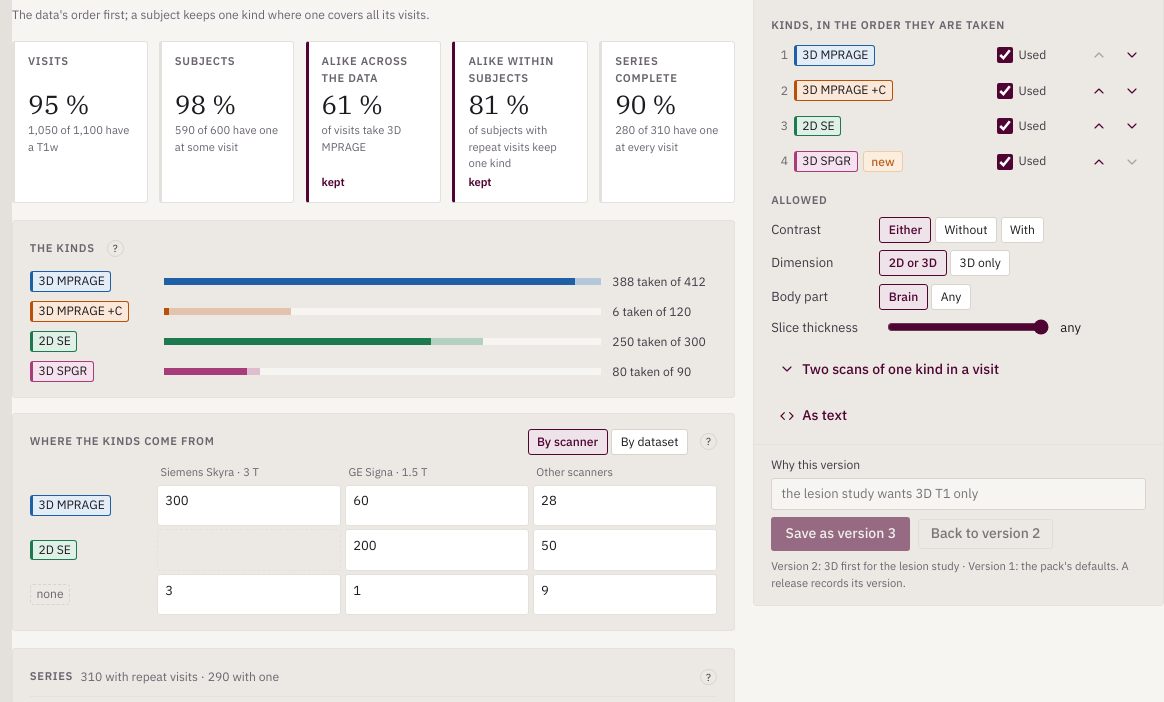
Test: the Rules panel › shows the saved version as text from the text door
The width and height of the screenshot is (1164, 702).
(page scrolled)
Click the button "As text": (813, 416) [771,401,855,431]
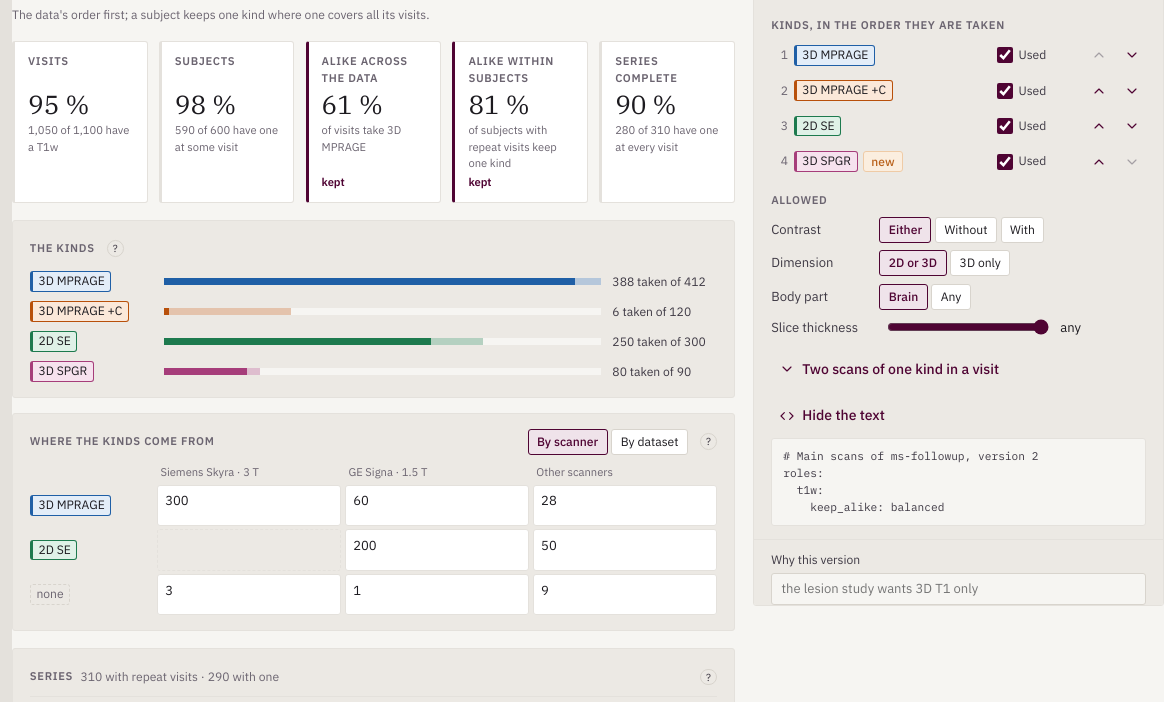
Check: the button "Hide the text" is expanded
Check: the text with class "ms-yaml" shows "# Main scans of ms-followup, version 2", box [783,450,1038,514]
Click the button "Hide the text": (832, 416) [771,401,893,431]
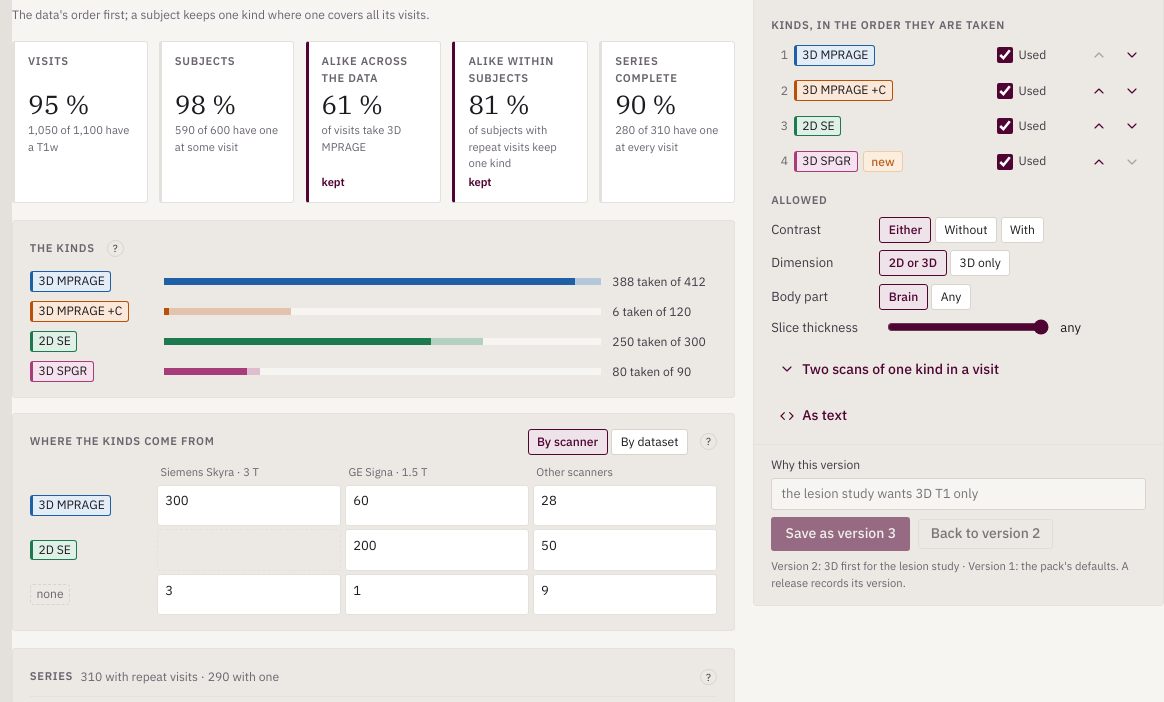
Check: the text with class "ms-yaml" is gone
